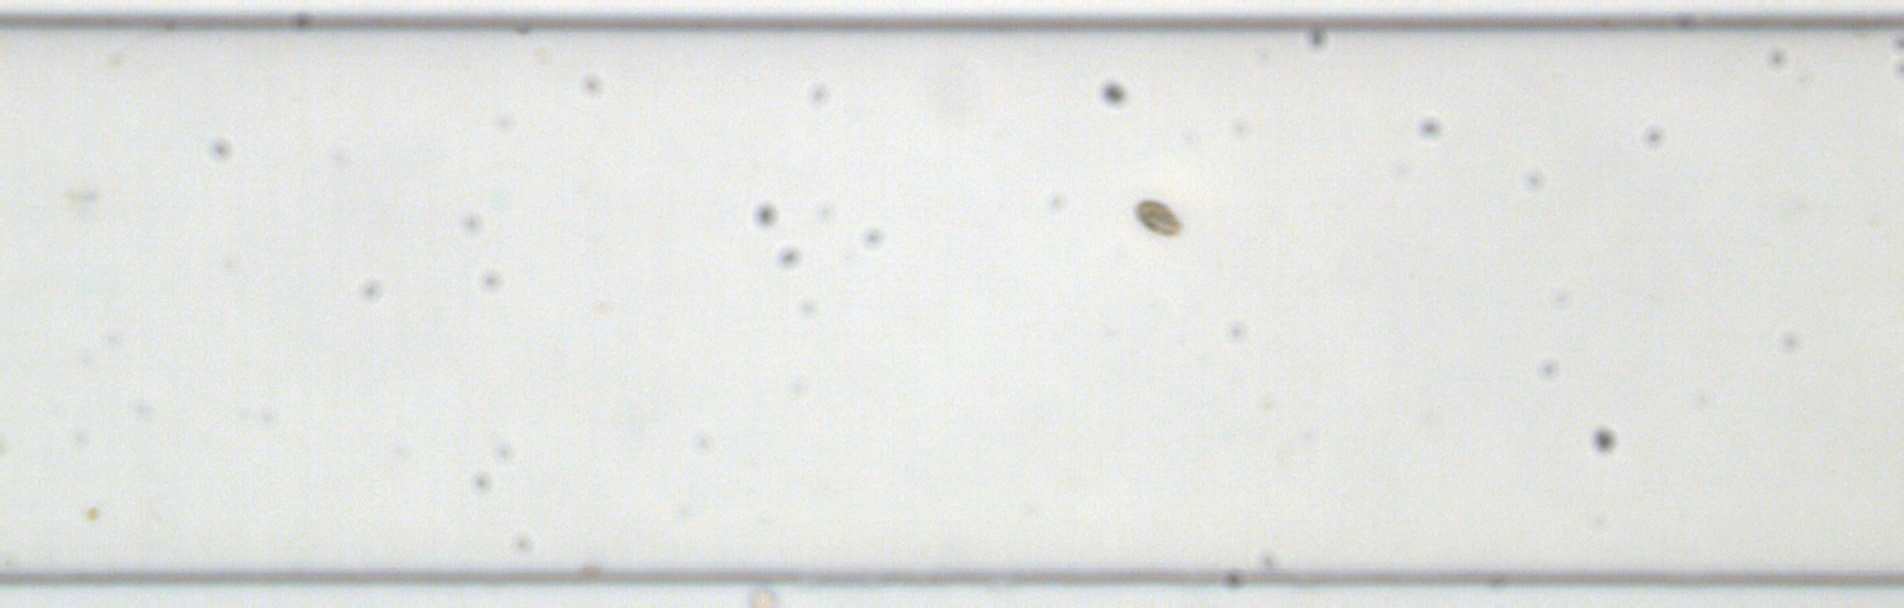Chlorella: (84, 504, 101, 519)
Dunaliella salina: (1133, 194, 1184, 243)
